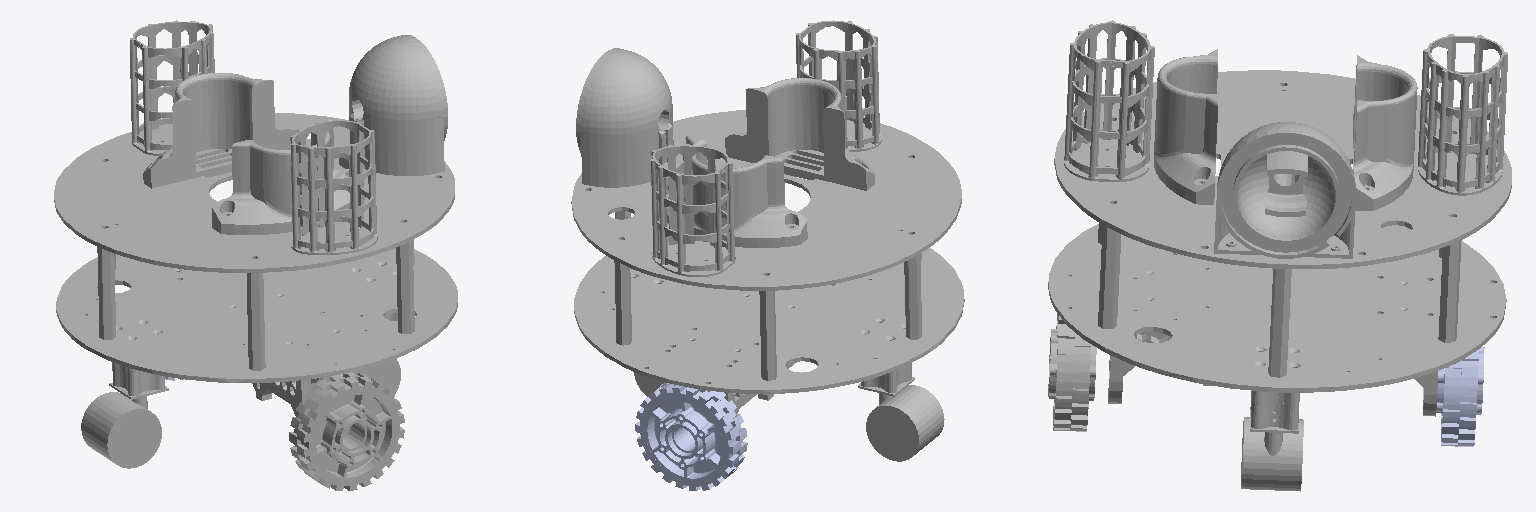
URDF robot description (fellowme_description):
<?xml version="1.0" encoding="utf-8"?>
<!-- This URDF was automatically created by SolidWorks to URDF Exporter! Originally created by [author] ([email redacted]) 
     Commit Version: 1.6.0-4-g7f85cfe  Build Version: 1.6.7995.38578
     For more information, please see http://wiki.ros.org/sw_urdf_exporter -->
<robot
  name="fellowme_description">
  <link name="base_footprint" />
  <!-- Joint to connect base_footprint with base_link -->
    <joint name="base_footprint_joint" type="fixed">
      <parent link="base_footprint"/>
      <child link="base_link" />
      <!-- origin xyz="0 0 ${wheel_radius - base_z_origin_to_wheel_origin}" rpy="0 0 0" /-->
      <!-- origin xyz="0 0 ${wheel_props['radius'] - wheel_props['z_offset'] + 0.1}" rpy="0 0 0" /-->
      <origin xyz="0 0 0.116" rpy="0 0 0" />
    </joint>

  <link
    name="base_link">
    <inertial>
      <origin
        xyz="0.008093 0.001509 0.037763"
        rpy="0 0 0" />
      <mass
        value="1.8441" />
      <inertia
        ixx="0.008491"
        ixy="-3.2123E-05"
        ixz="-1.3095E-05"
        iyy="0.0070077"
        iyz="0.00031848"
        izz="0.0143" />
    </inertial>
    <visual>
      <origin
        xyz="0 0 0"
        rpy="0 0 0" />
      <geometry>
        <mesh
          filename="package://fellowme_description/meshes/base_link.STL" />
      </geometry>
      <material
        name="">
        <color
          rgba="0.75294 0.75294 0.75294 1" />
      </material>
    </visual>
    <collision>
      <origin
        xyz="0 0 0"
        rpy="0 0 0" />
      <geometry>
        <mesh
          filename="package://fellowme_description/meshes/base_link.STL" />
      </geometry>
    </collision>
  </link>
  <link
    name="wheel_left">
    <inertial>
      <origin
        xyz="-2.6513E-10 2.2676E-09 2.5951E-15"
        rpy="0 0 0" />
      <mass
        value="0.12826" />
      <inertia
        ixx="9.3436E-05"
        ixy="-2.9231E-13"
        ixz="1.3869E-14"
        iyy="9.3436E-05"
        iyz="-8.7266E-15"
        izz="0.00017754" />
    </inertial>
    <visual>
      <origin
        xyz="0 0 0"
        rpy="0 0 0" />
      <geometry>
        <mesh
          filename="package://fellowme_description/meshes/wheel_left.STL" />
      </geometry>
      <material
        name="">
        <color
          rgba="0.79216 0.81961 0.93333 1" />
      </material>
    </visual>
    <collision>
      <origin
        xyz="0 0 0"
        rpy="0 0 0" />
      <geometry>
        <mesh
          filename="package://fellowme_description/meshes/wheel_left.STL" />
      </geometry>
    </collision>
  </link>
  <joint
    name="wheel_left_joint"
    type="continuous">
    <origin
      xyz="0 0.13932 -0.075148"
      rpy="-1.6144 0 0" />
    <parent
      link="base_link" />
    <child
      link="wheel_left" />
    <axis
      xyz="0 0 -1" />
  </joint>
  <link
    name="wheel_right">
    <inertial>
      <origin
        xyz="0.008093 0.001509 0.037763"
        rpy="0 0 0" />
      <mass
        value="1.8441" />
      <inertia
        ixx="0.008491"
        ixy="-3.2123E-05"
        ixz="-1.3095E-05"
        iyy="0.0070077"
        iyz="0.00031848"
        izz="0.0143" />
    </inertial>
    <visual>
      <origin
        xyz="0 0 0"
        rpy="0 0 0" />
      <geometry>
        <mesh
          filename="package://fellowme_description/meshes/wheel_right.STL" />
      </geometry>
      <material
        name="">
        <color
          rgba="0.75294 0.75294 0.75294 1" />
      </material>
    </visual>
    <collision>
      <origin
        xyz="0 0 0"
        rpy="0 0 0" />
      <geometry>
        <mesh
          filename="package://fellowme_description/meshes/wheel_right.STL" />
      </geometry>
    </collision>
  </link>
  <joint
    name="wheel_right_joint"
    type="continuous">
    <origin
      xyz="0 -0.15633 -0.06224"
      rpy="1.5272 0 0" />
    <parent
      link="base_link" />
    <child
      link="wheel_right" />
    <axis
      xyz="0 0 1" />
  </joint>
</robot>

--- What the picture shows (computed from the rendered views, not written in the file) ---
The picture shows the robot from 3 angles, left to right: view 1: azimuth 30°, elevation 25°; view 2: azimuth 150°, elevation 25°; view 3: azimuth 270°, elevation 25°; orthographic projection.
Model fellowme_description with 4 links and 3 joints (2 continuous, 1 fixed), rooted at base_footprint, posed every joint at zero.
Links seen in each view (by area): view 1: base_link, wheel_right; view 2: base_link, wheel_left; view 3: base_link, wheel_right, wheel_left.
Boxes of the visible links, x1,y1,x2,y2 form: base_link: (54, 20, 457, 468); wheel_right: (289, 372, 404, 490); base_link: (571, 20, 964, 461); wheel_left: (635, 383, 747, 490); base_link: (1048, 20, 1511, 491); wheel_right: (1048, 313, 1096, 431); wheel_left: (1436, 347, 1484, 446).
Size in the robot's own frame: 0.35 by 0.3538 by 0.3375 metres.
3 mesh visuals loaded from 3 distinct referenced files (3 binary STL).
